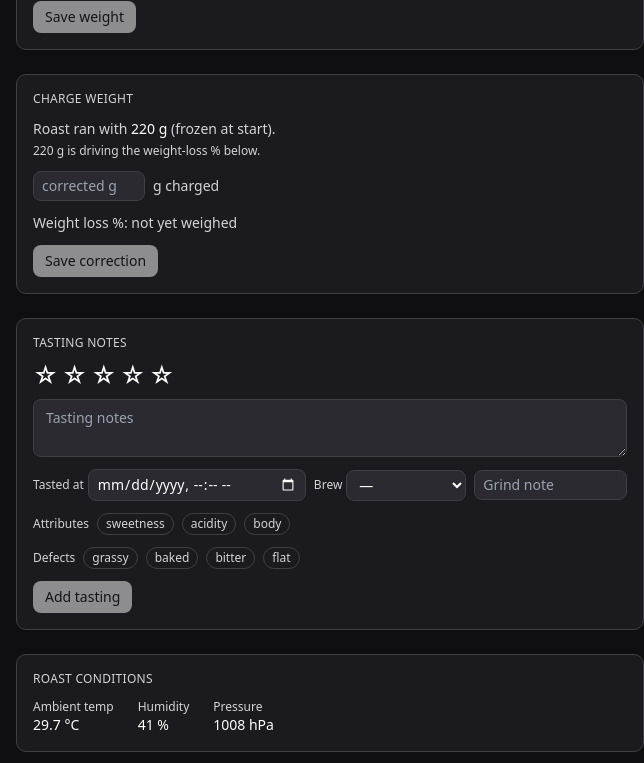
DetailView composition › #568 round 5 (PRRT_kwDOSzMG_c6RgNHJ): a concurrent widget's BROAD (non-exact) invalidation of roastKeys.detail/history — exactly what RoastedWeight.tsx and Char
The width and height of the screenshot is (644, 763).
(page scrolled)
Check: the element with test id "roast-tastings" is shown, box top-left (16, 318), bottom-right (643, 630)
Click the radio button with test id "tasting-star-2". click: (75,375)
box: top-left (62, 363), bottom-right (87, 387)
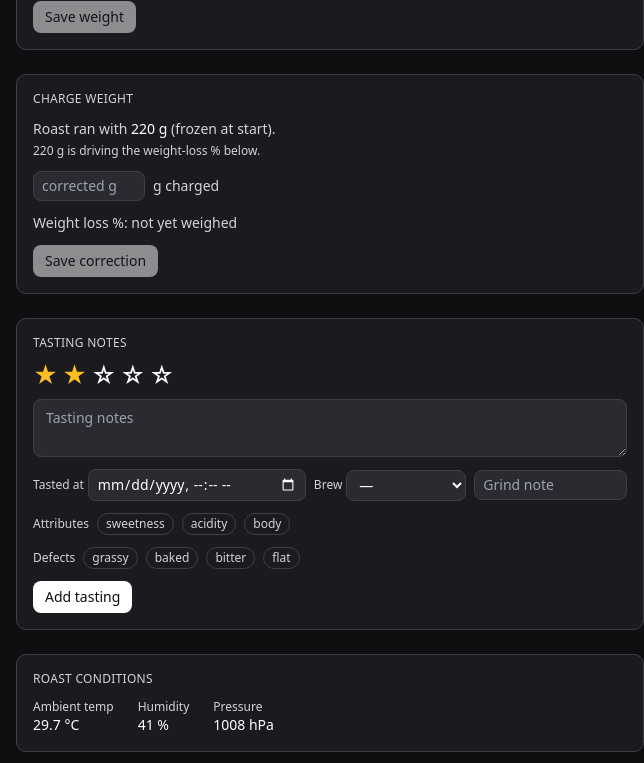
Click the button with test id "tasting-save". click: (83,597)
box: top-left (33, 581), bottom-right (132, 613)
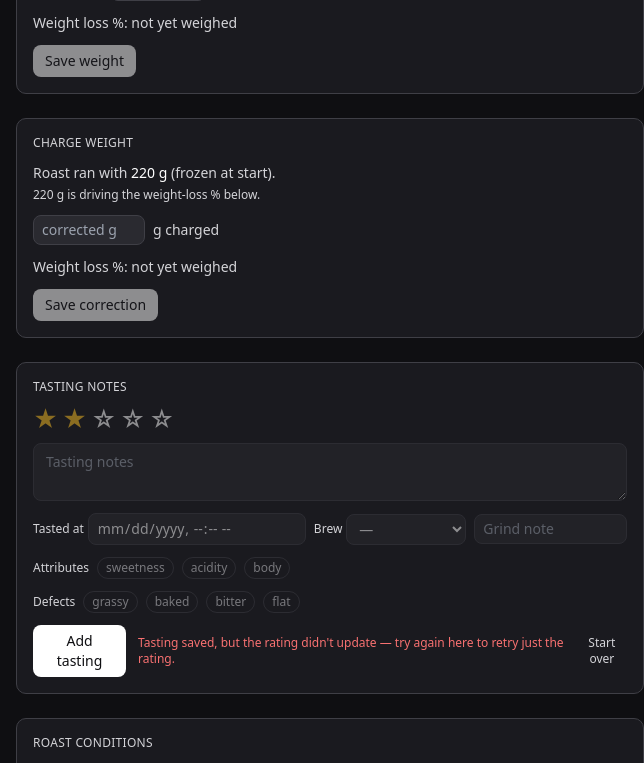
Check: the text with test id "rating-partial-error" is shown, box top-left (138, 635), bottom-right (565, 667)
